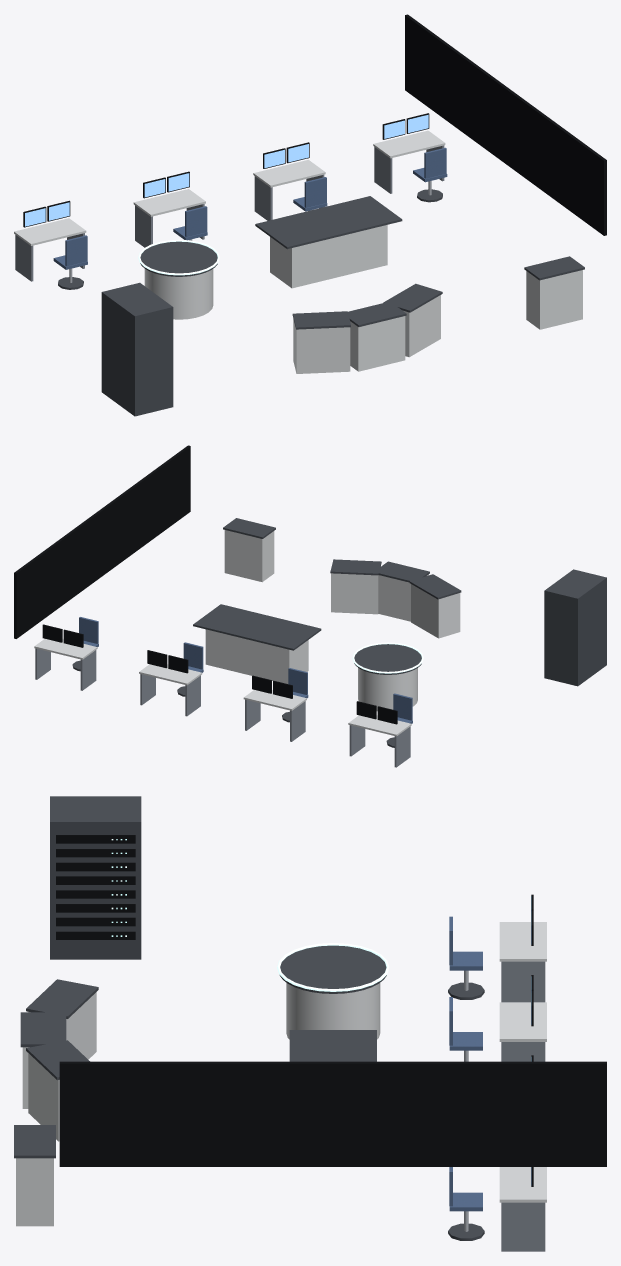
The model's file is ops_luna.glb.
3 views of the same model, one above another, from view 1: azimuth 30°, elevation 25°; view 2: azimuth 150°, elevation 25°; view 3: azimuth 270°, elevation 25° (orthographic). The views are drawn at different scales.
Parts seen in each view (by area): view 1: white_plastic, fabric_ops, glow_1f4073_0_8; view 2: white_plastic, fabric_ops; view 3: white_plastic, fabric_ops, twin_ring.
Boxes of the visible parts, bbox=[...] form: white_plastic: bbox=[14, 14, 606, 416]; fabric_ops: bbox=[53, 147, 447, 269]; glow_1f4073_0_8: bbox=[25, 114, 428, 226]; white_plastic: bbox=[14, 445, 606, 767]; fabric_ops: bbox=[79, 617, 412, 723]; white_plastic: bbox=[14, 796, 606, 1251]; fabric_ops: bbox=[449, 916, 482, 1211]; twin_ring: bbox=[277, 943, 389, 991].
Bounding box in the file's own units: 9.93 × 2.75 × 7.8.
5 materials, 5 textured.
